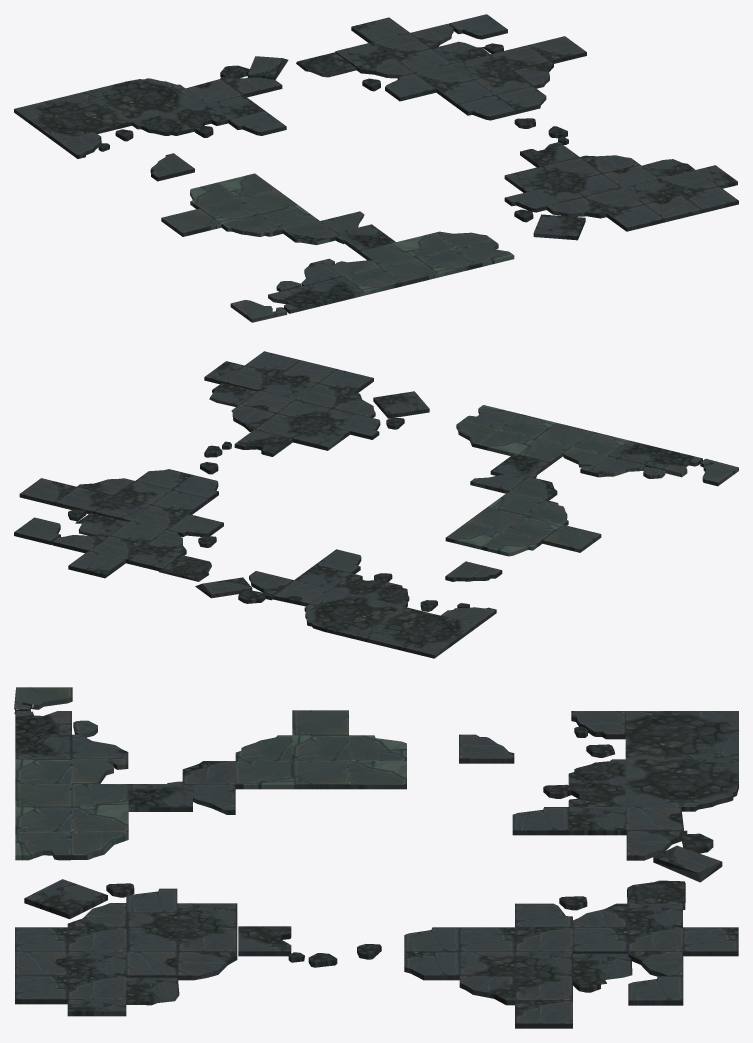
The model's file is chnagjing_sjb_04.FBX.
The picture shows the model from 3 angles, top to bottom: view 1: azimuth 30°, elevation 25°; view 2: azimuth 150°, elevation 25°; view 3: azimuth 270°, elevation 25°; orthographic projection. The views are drawn at different scales.
Parts seen in each view (by area): view 1: chnagjing_sjb_04; view 2: chnagjing_sjb_04; view 3: chnagjing_sjb_04.
Boxes of the visible parts, <box> form: chnagjing_sjb_04: <box>14,14,738,322</box>; chnagjing_sjb_04: <box>14,351,738,658</box>; chnagjing_sjb_04: <box>14,687,738,1028</box>.
Bounding box in the file's own units: 1067 × 972 × 7.42.
